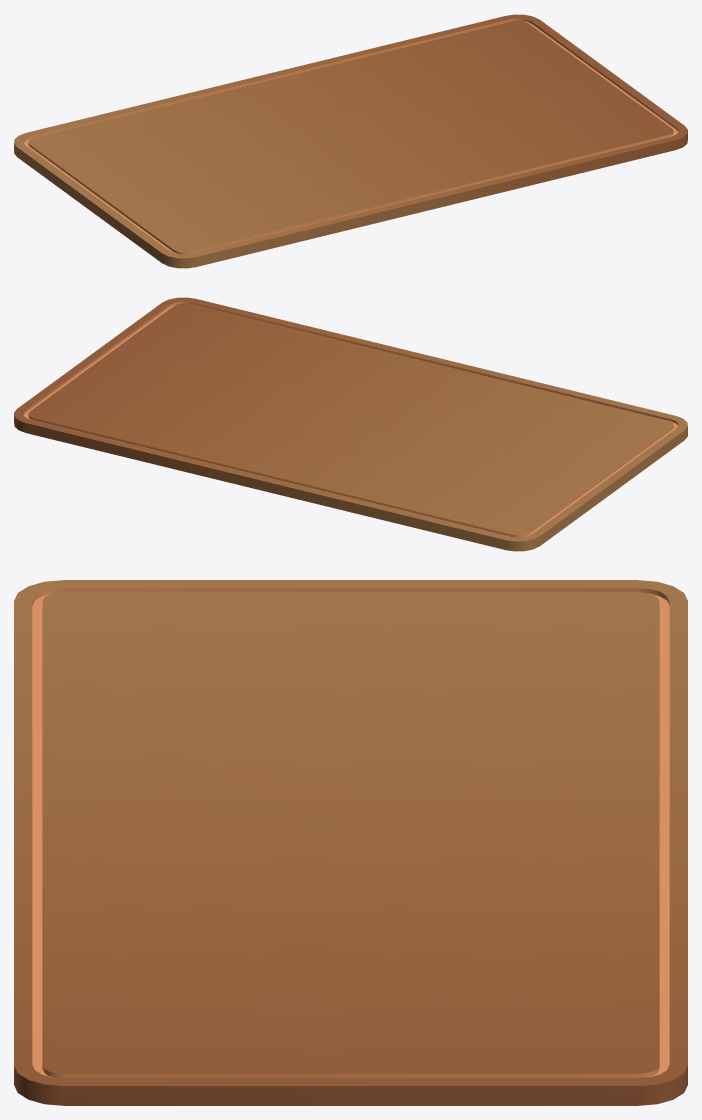
File: cuttingboard.fbx
3 views of the same model, one above another, from view 1: azimuth 30°, elevation 25°; view 2: azimuth 150°, elevation 25°; view 3: azimuth 270°, elevation 25° (orthographic). The views are drawn at different scales.
Visible parts, largest first — view 1: cutting board; view 2: cutting board; view 3: cutting board.
Part boxes in pixels (x1,y1,x2,y2): cutting board: (14,14,687,268); cutting board: (14,297,687,551); cutting board: (14,580,687,1105).
Size of the model in its own units: 550 by 10.01 by 309.
